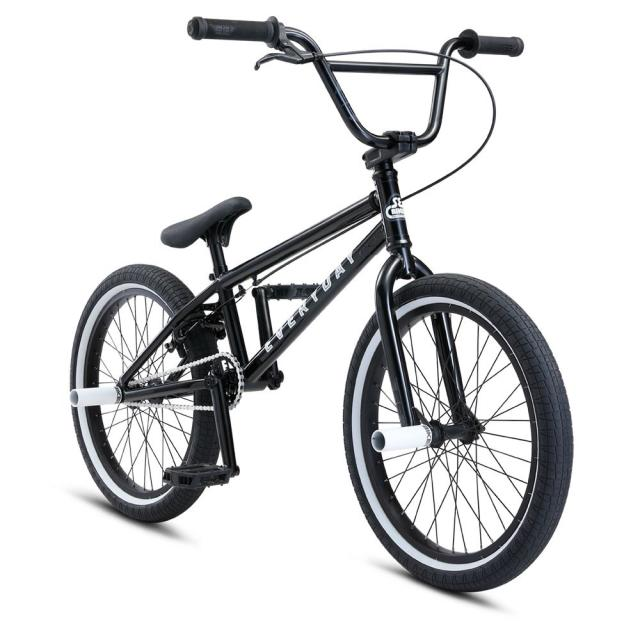bmx-bike: (64, 15, 577, 597)
